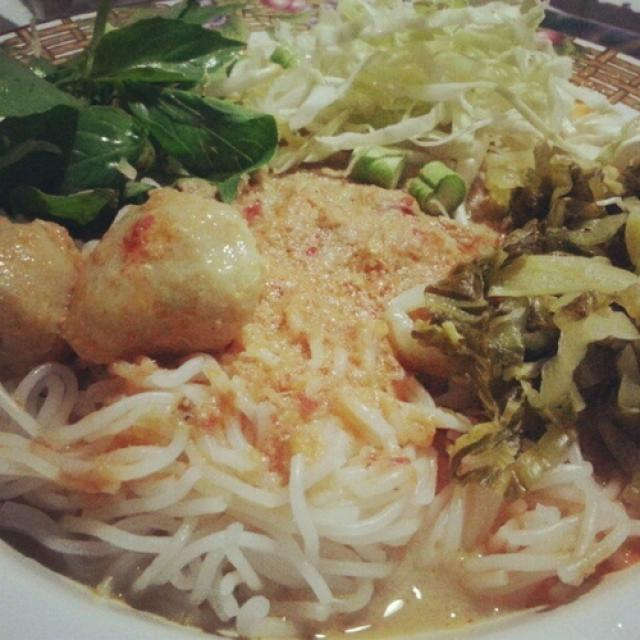面条主食: (9, 5, 626, 629)
